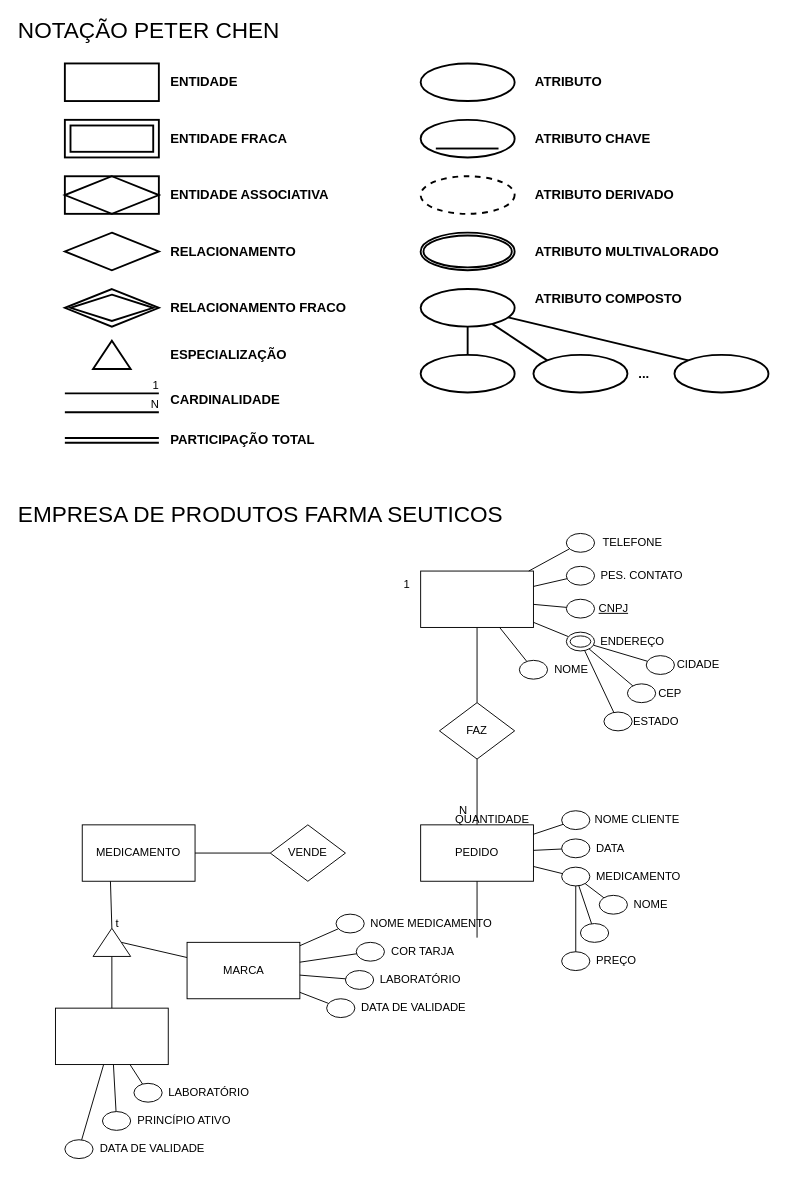
Image size: 785x1183. Some labels were removed from this diagram. Here are the shapes that lost their labels. From the top down, the centre of each, then its label:
the point at 476,598: CLIENTE
the point at 111,1036: GENÉRICO
